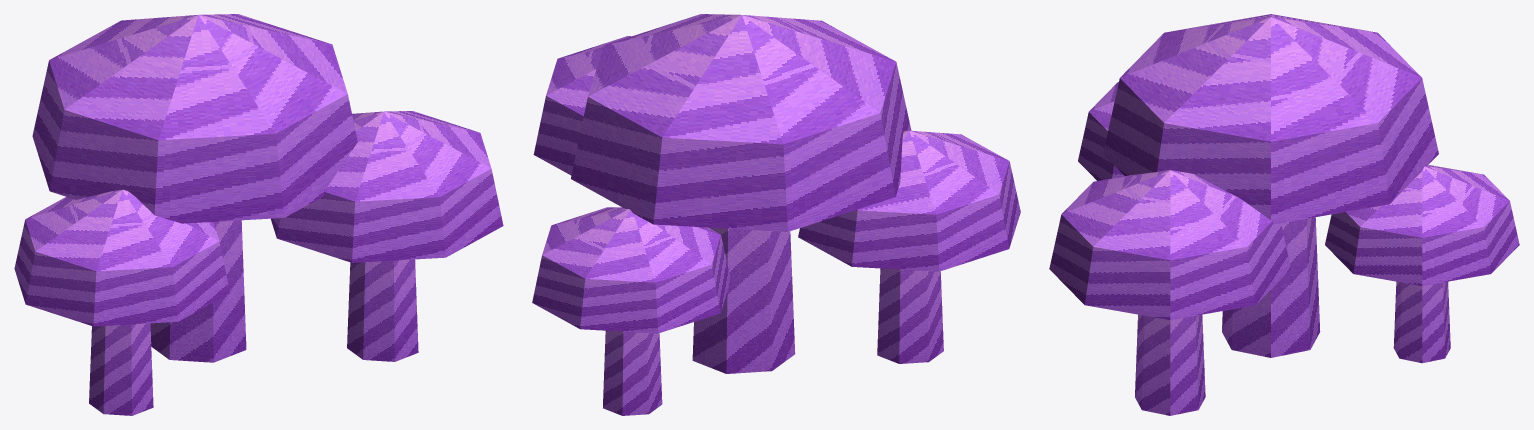
The model's file is orelha_de_geodo.glb.
3 views of the same model, side by side, from view 1: azimuth 30°, elevation 25°; view 2: azimuth 150°, elevation 25°; view 3: azimuth 270°, elevation 25° (orthographic). The views are drawn at different scales.
Parts seen in each view (by area): view 1: orelha_de_geodo; view 2: orelha_de_geodo; view 3: orelha_de_geodo.
Part boxes in pixels (x1,y1,x2,y2): orelha_de_geodo: (14,14,503,415); orelha_de_geodo: (532,14,1020,415); orelha_de_geodo: (1049,14,1519,415).
Size of the model in its own units: 0.5833 by 0.399 by 0.532.
1 material, 1 textured.
